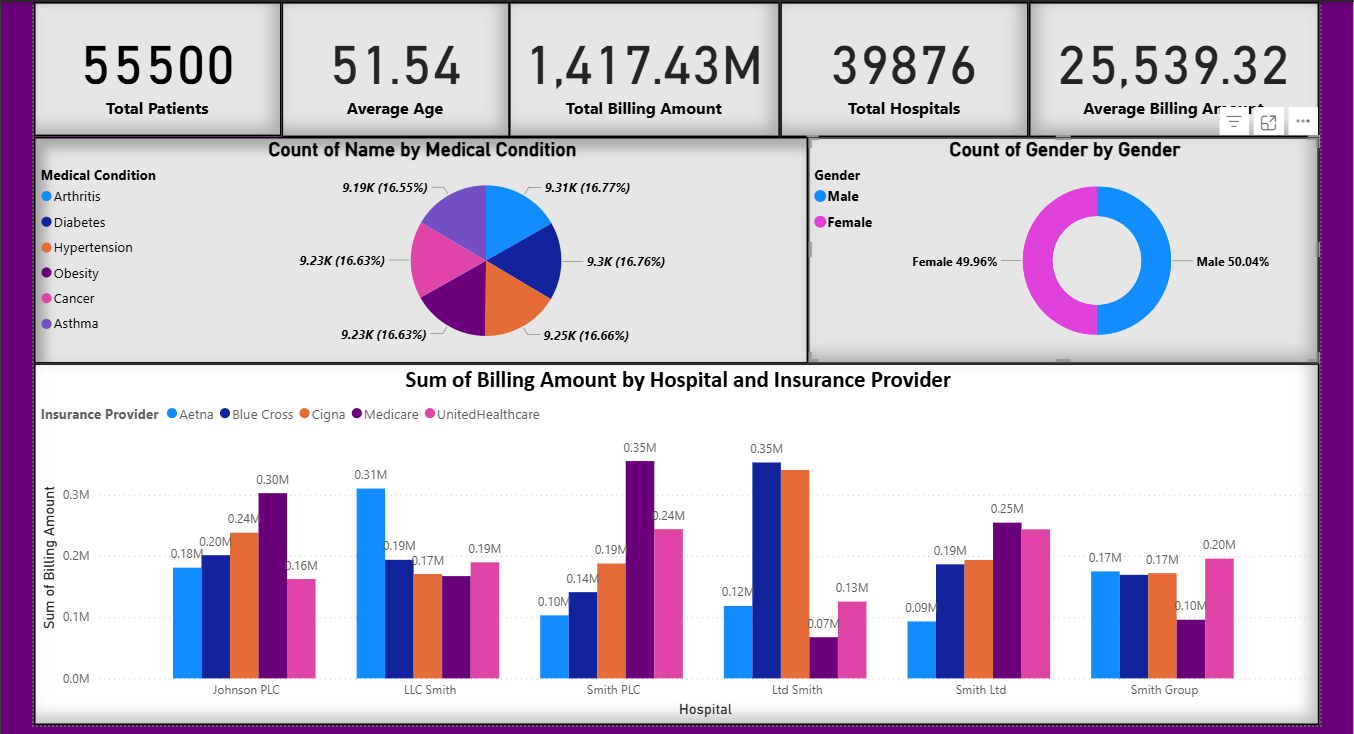

What the dashboard file says about the page in this screenshot:
{"tool":"powerbi","page":{"name":"Page 1","canvas":[1280,720],"ordinal":0},"visuals":[{"type":"card","fields":{"Values":["healthcare_dataset.Total Patients"]},"box":[0,0,246.2,133.8],"z":0},{"type":"card","fields":{"Values":["healthcare_dataset.Total Hospitals"]},"box":[742.7,0,247.6,134],"z":1000},{"type":"card","fields":{"Values":["healthcare_dataset.Average Billing Amount"]},"box":[990.3,0,288.6,134],"z":2000},{"type":"card","fields":{"Values":["healthcare_dataset.Average Age"]},"box":[246.2,0,227.1,134],"z":3000},{"type":"card","fields":{"Values":["healthcare_dataset.Total Billing Amount"]},"box":[473.3,0,269.5,134],"z":4000},{"type":"donutChart","fields":{"Category":["healthcare_dataset.Gender"],"Y":["healthcare_dataset.Gender"]},"box":[770.1,134,508.8,225.7],"z":5000},{"type":"pieChart","fields":{"Category":["healthcare_dataset.Medical Condition"],"Y":["healthcare_dataset.Name"]},"box":[0,134,770.1,225.7],"z":6000},{"type":"clusteredColumnChart","fields":{"Y":["healthcare_dataset.Billing Amount"],"Category":["healthcare_dataset.Hospital"],"Series":["healthcare_dataset.Insurance Provider"]},"box":[0,359.7,1278.9,359.7],"z":7000}]}

Visuals, with their boxes in screenshot pixels (x1, y1, x2, y2):
card - healthcare_dataset.Total Patients: <box>32,0,279,134</box>
card - healthcare_dataset.Total Hospitals: <box>778,0,1027,135</box>
card - healthcare_dataset.Average Billing Amount: <box>1027,0,1316,135</box>
card - healthcare_dataset.Average Age: <box>279,0,507,135</box>
card - healthcare_dataset.Total Billing Amount: <box>507,0,778,135</box>
donutChart - healthcare_dataset.Gender x healthcare_dataset.Gender: <box>805,135,1316,361</box>
pieChart - healthcare_dataset.Medical Condition x healthcare_dataset.Name: <box>32,135,805,361</box>
clusteredColumnChart - healthcare_dataset.Billing Amount x healthcare_dataset.Hospital: <box>32,361,1316,723</box>
